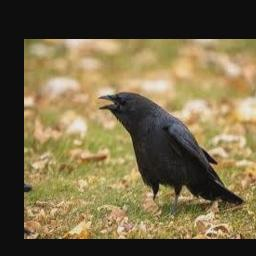Crow: (98, 91, 245, 215)
